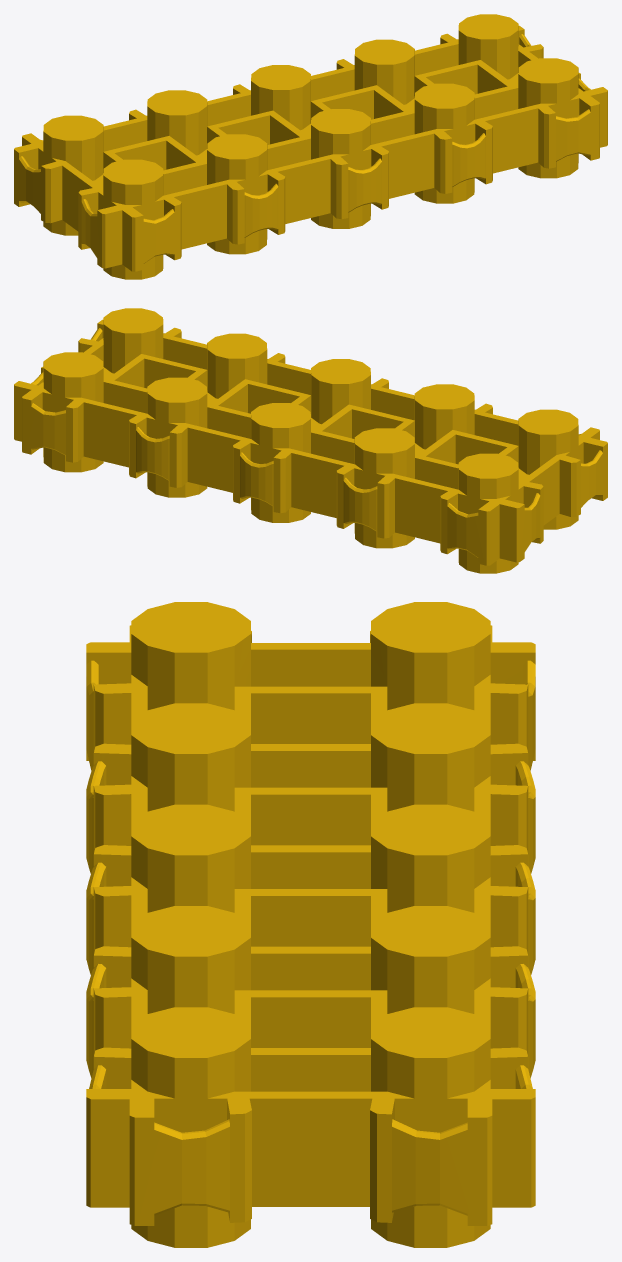
3 renders of one model, top to bottom at view 1: azimuth 30°, elevation 25°; view 2: azimuth 150°, elevation 25°; view 3: azimuth 270°, elevation 25°, orthographic. The views are drawn at different scales.
Parts seen in each view (by area): view 1: 5x2; view 2: 5x2; view 3: 5x2.
Boxes of the visible parts, left/top/right/bottom form: 5x2: left=14, top=14, right=607, bottom=279; 5x2: left=14, top=308, right=607, bottom=573; 5x2: left=86, top=602, right=535, bottom=1247.
Size of the model in its own units: 1.98 by 0.3556 by 0.762.
